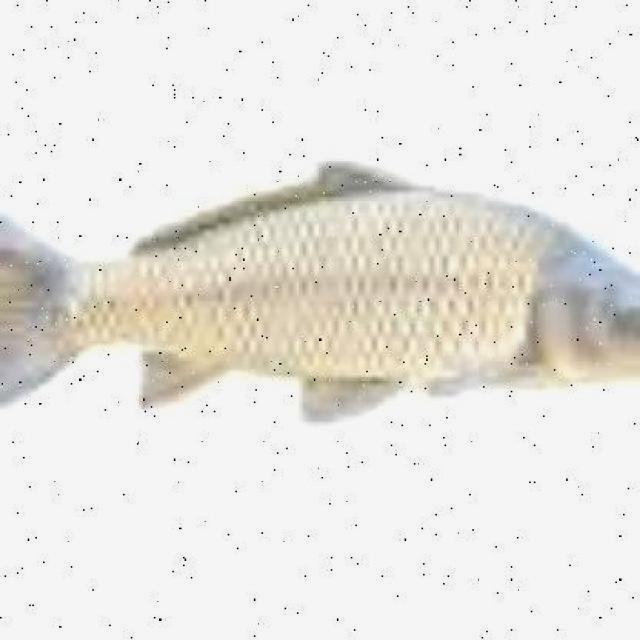ikan-mas: (0, 160, 640, 431)
